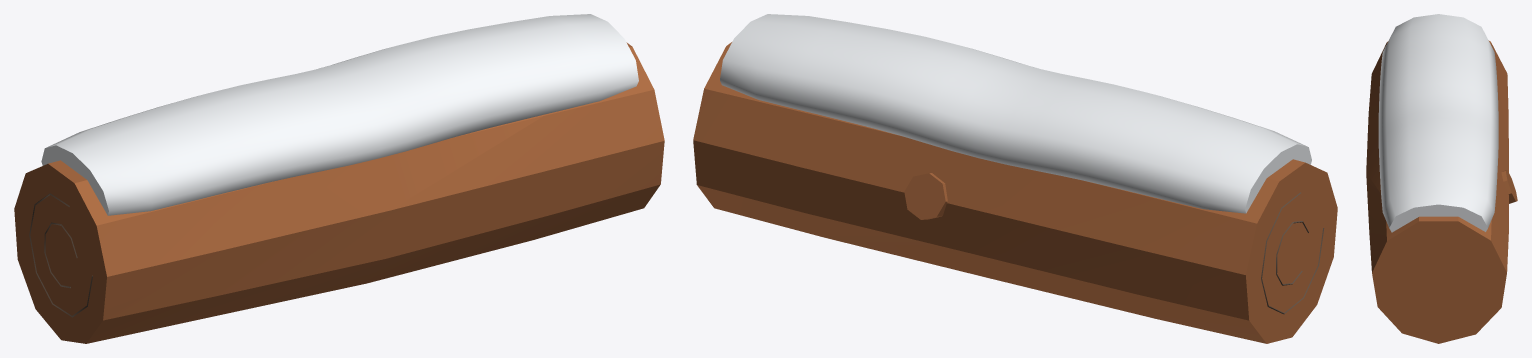
File: SnowyLog.obj
The picture shows the model from 3 angles, left to right: view 1: azimuth 30°, elevation 25°; view 2: azimuth 150°, elevation 25°; view 3: azimuth 270°, elevation 25°; orthographic projection. The views are drawn at different scales.
Visible parts, largest first — view 1: SnowyLog; view 2: SnowyLog; view 3: SnowyLog.
Part boxes in pixels (x1,y1,x2,y2): SnowyLog: (14, 14, 664, 343); SnowyLog: (693, 14, 1337, 343); SnowyLog: (1366, 14, 1517, 343).
Bounding box in the file's own units: 9.01 × 3.13 × 2.9.
Materials: 1 (1 with a texture image).
